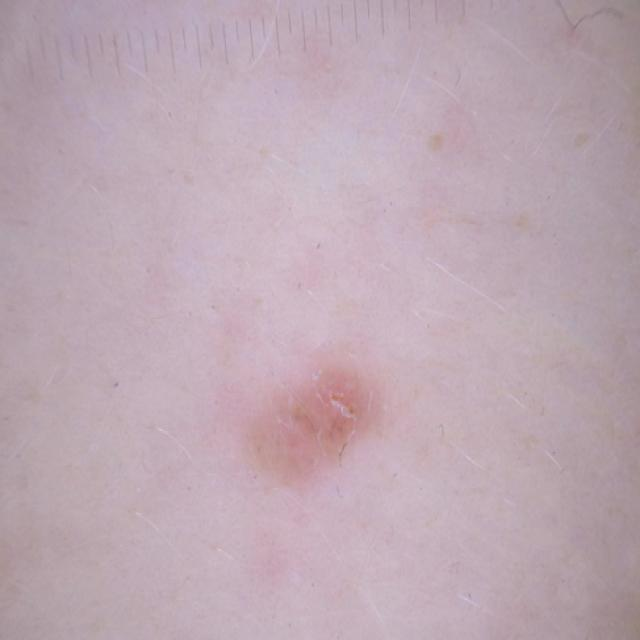Carcinoma: (189, 336, 476, 552)
